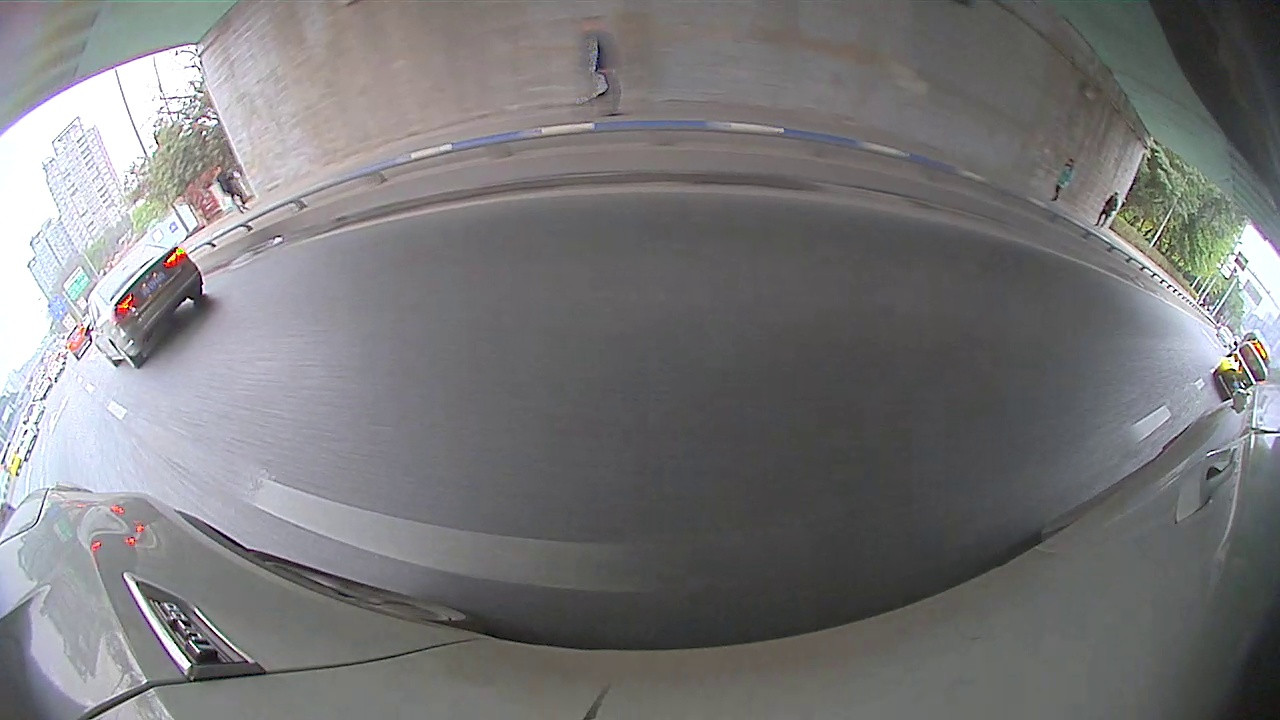car: (380, 1, 988, 308), (1182, 365, 1254, 463), (1, 334, 51, 400), (80, 228, 131, 280), (1105, 255, 1149, 308), (1163, 317, 1192, 353)
front: (883, 226, 965, 304)
rear: (465, 169, 588, 278)
